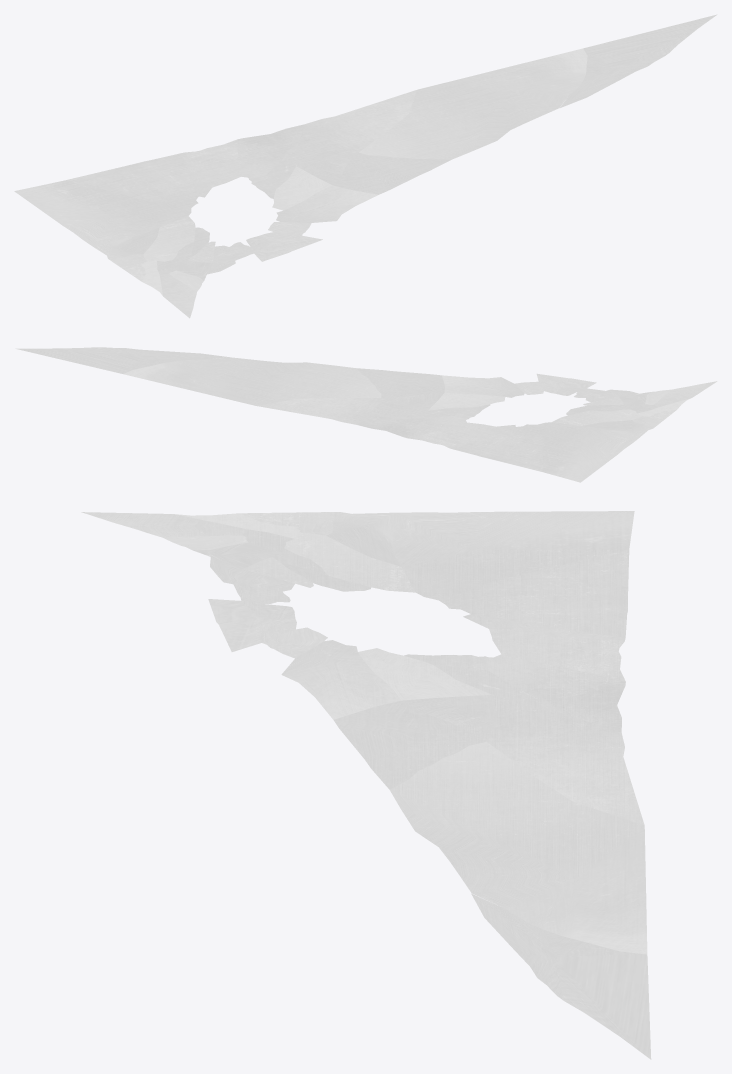
File: NeroHPUI.fbx
3 views of the same model, one above another, from view 1: azimuth 30°, elevation 25°; view 2: azimuth 150°, elevation 25°; view 3: azimuth 270°, elevation 25° (orthographic). The views are drawn at different scales.
Parts seen in each view (by area): view 1: LOD_1_Group_0_Sub_1__phong1; view 2: LOD_1_Group_0_Sub_1__phong1; view 3: LOD_1_Group_0_Sub_1__phong1.
Part boxes in pixels (x1,y1,x2,y2): LOD_1_Group_0_Sub_1__phong1: [14, 14, 717, 318]; LOD_1_Group_0_Sub_1__phong1: [15, 347, 717, 482]; LOD_1_Group_0_Sub_1__phong1: [81, 511, 651, 1059].
Bounding box in the file's own units: 1185 × 0.0702 × 520.
1 material, 1 textured.
